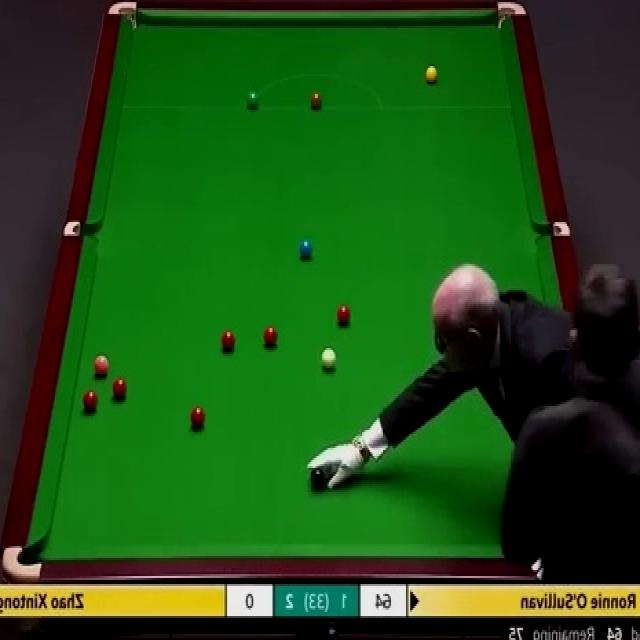black-ball: (309, 465, 325, 490)
blue-ball: (299, 239, 312, 261)
brown-ball: (310, 93, 322, 110)
green-ball: (247, 90, 258, 110)
pink-ball: (92, 353, 109, 378)
red-ball: (189, 405, 207, 430), (220, 327, 235, 352), (112, 378, 127, 399), (264, 325, 278, 347), (337, 304, 350, 327), (83, 391, 96, 413)
white-ball: (319, 347, 337, 375)
yellow-ball: (424, 66, 438, 86)
